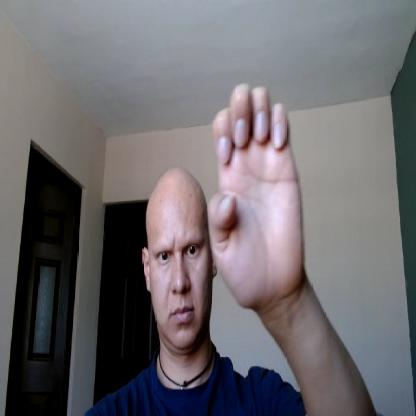E: (208, 83, 304, 300)
